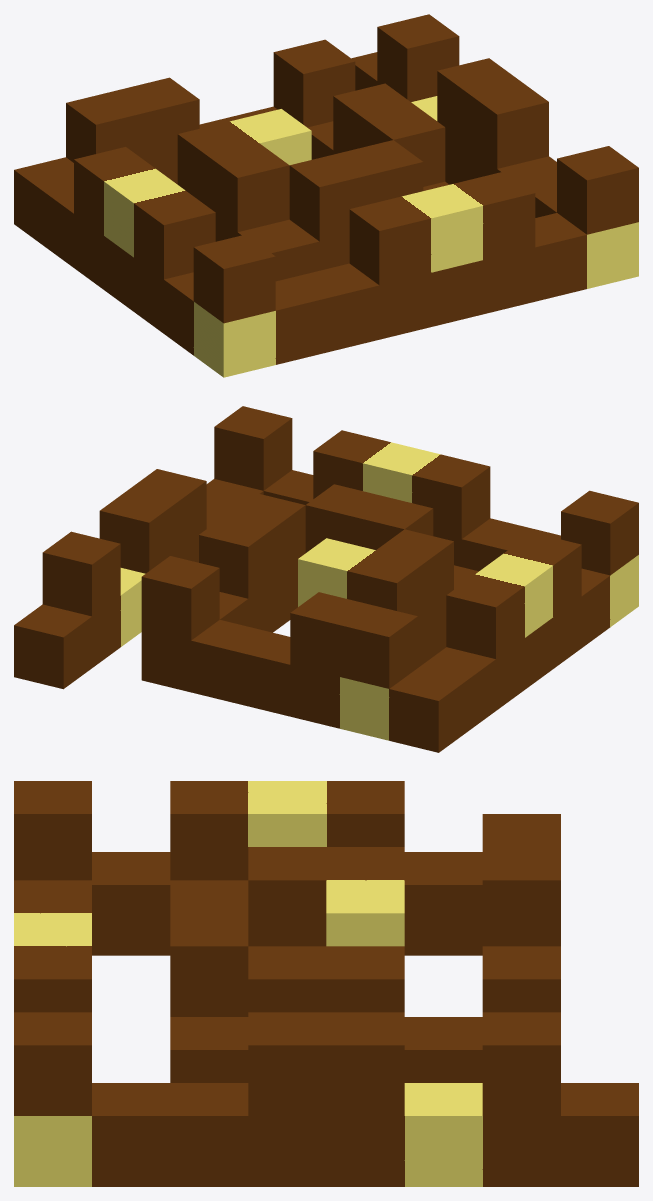
The model's file is Cumberland.dae.
The picture shows the model from 3 angles, top to bottom: view 1: azimuth 30°, elevation 25°; view 2: azimuth 150°, elevation 25°; view 3: azimuth 270°, elevation 25°; orthographic projection. The views are drawn at different scales.
Visible parts, largest first — view 1: Cumberland; view 2: Cumberland; view 3: Cumberland.
Boxes of the visible parts, left/top/right/bottom form: Cumberland: left=14, top=14, right=638, bottom=377; Cumberland: left=14, top=406, right=638, bottom=752; Cumberland: left=14, top=781, right=638, bottom=1186.
Bounding box in the file's own units: 8 × 2 × 8.
Materials: 1 (1 with a texture image).
